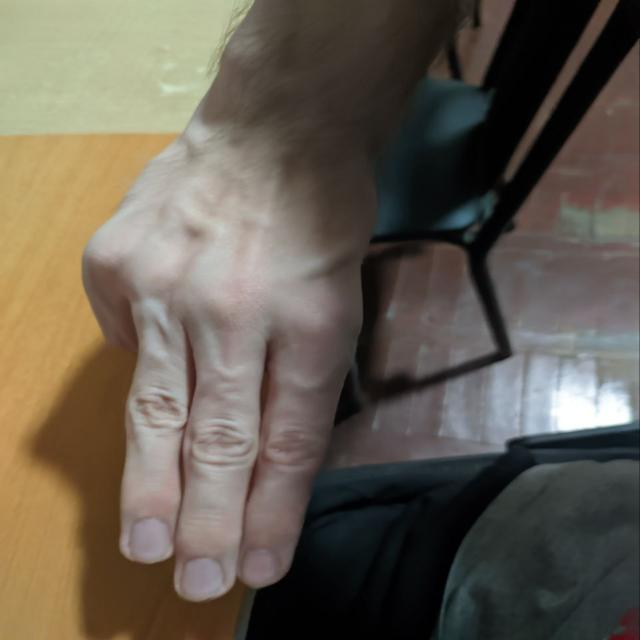t: (78, 133, 359, 602)
